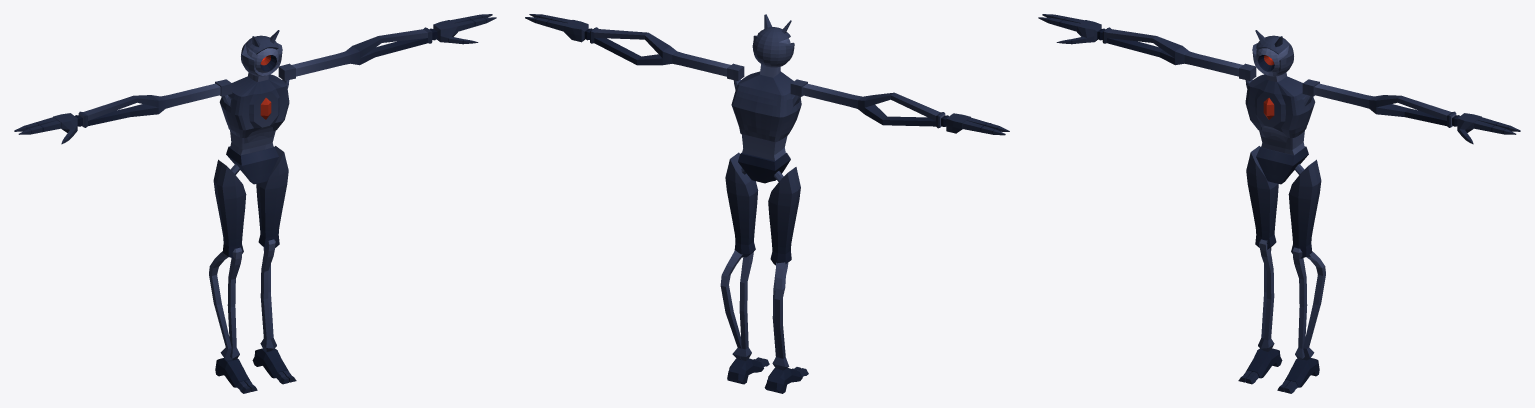
The model's file is enforcer_model_enemy .fbx.
3 views of the same model, side by side, from view 1: azimuth 30°, elevation 25°; view 2: azimuth 150°, elevation 25°; view 3: azimuth 330°, elevation 25° (orthographic).
Parts seen in each view (by area): view 1: Sphere.001; view 2: Sphere.001; view 3: Sphere.001.
Boxes of the visible parts, <box> form: Sphere.001: <box>14,14,496,393</box>; Sphere.001: <box>525,14,1009,393</box>; Sphere.001: <box>1038,14,1520,393</box>.
Size of the model in its own units: 3.56 by 2.5 by 0.4109.
